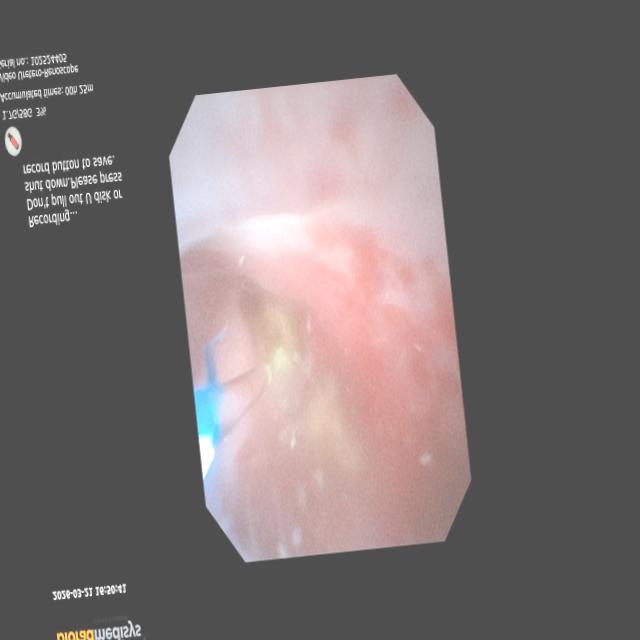laser-fibre: (219, 364, 271, 439)
laser_dot: (272, 346, 289, 371)
stone-new: (241, 286, 301, 375)
